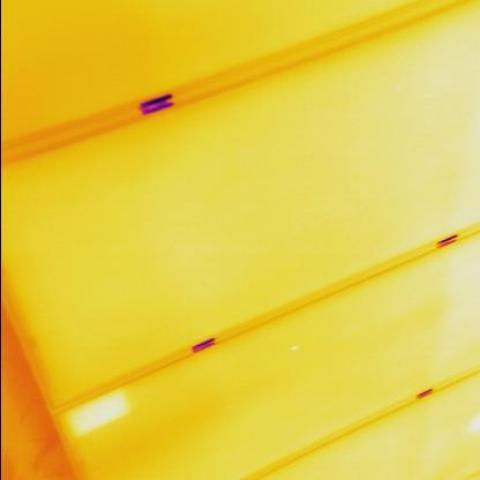fault: (63, 391, 130, 437)
